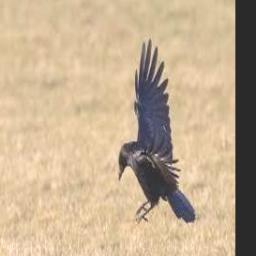Crow: (118, 39, 197, 225)
